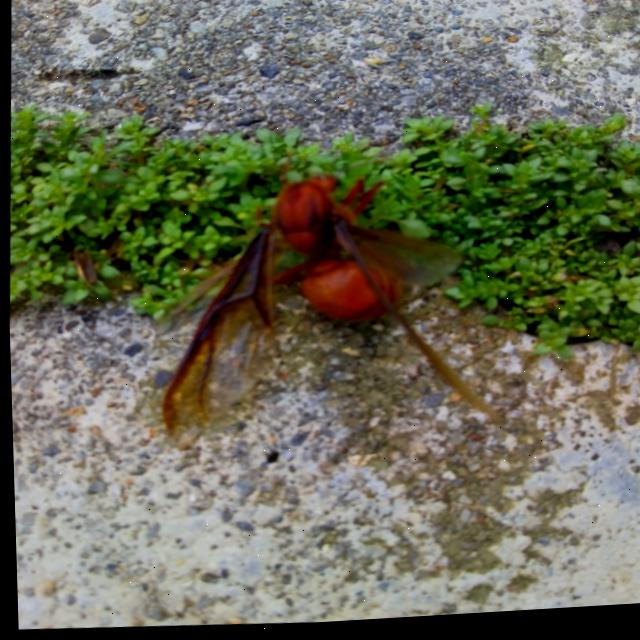Dead-Male-Alate: (150, 140, 511, 466)
